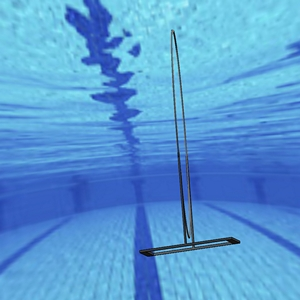circle: (139, 27, 240, 257)
